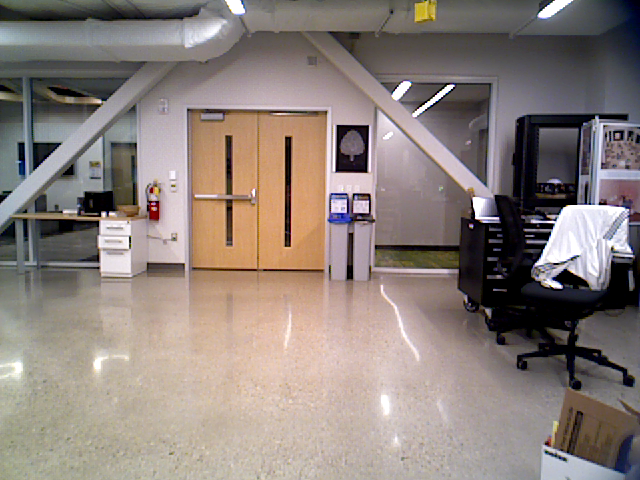painting1: (330, 124, 374, 175)
